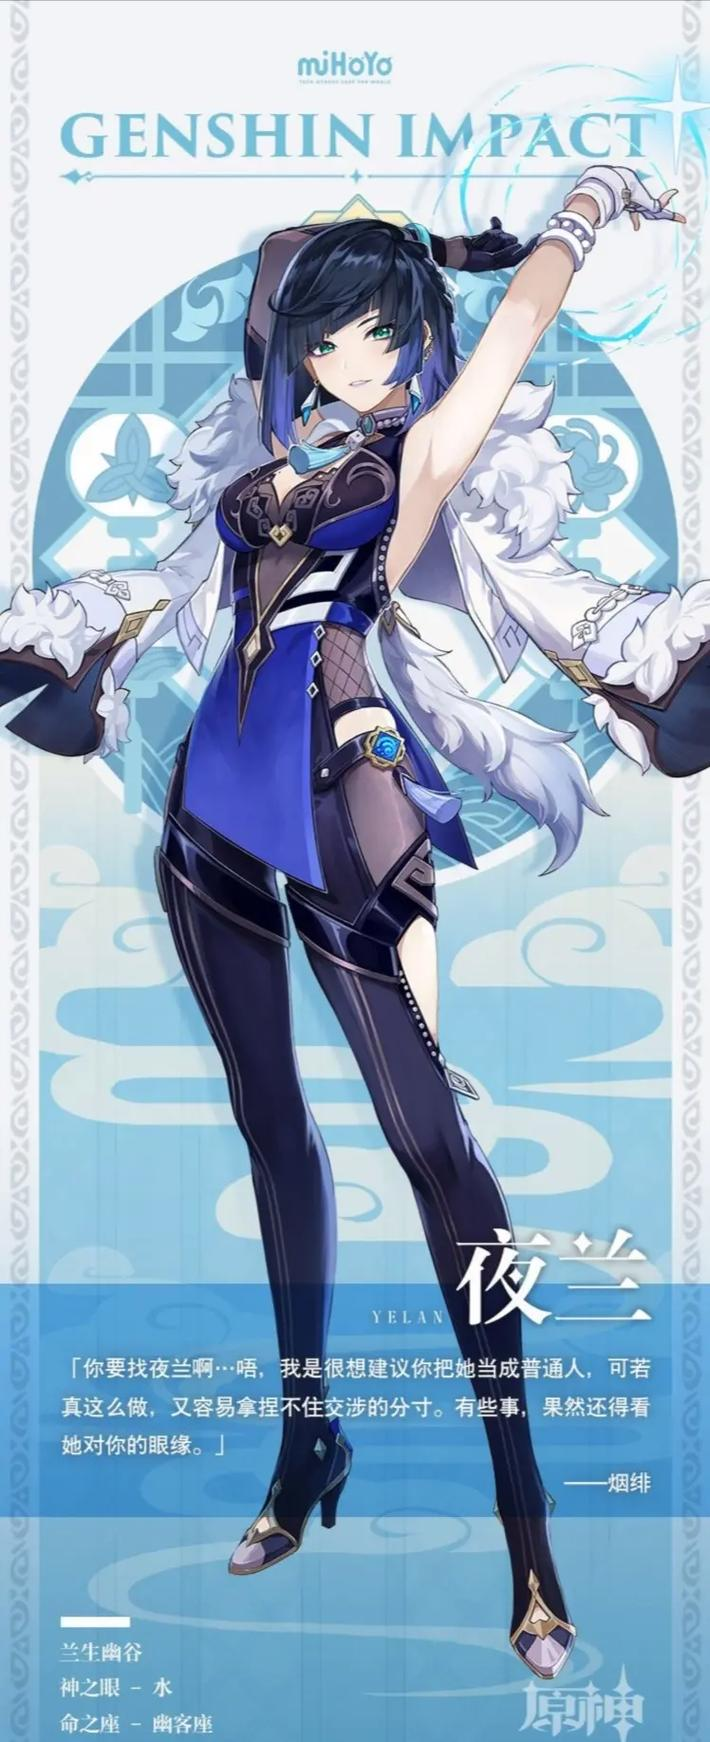夜兰: (172, 154, 704, 1695)
